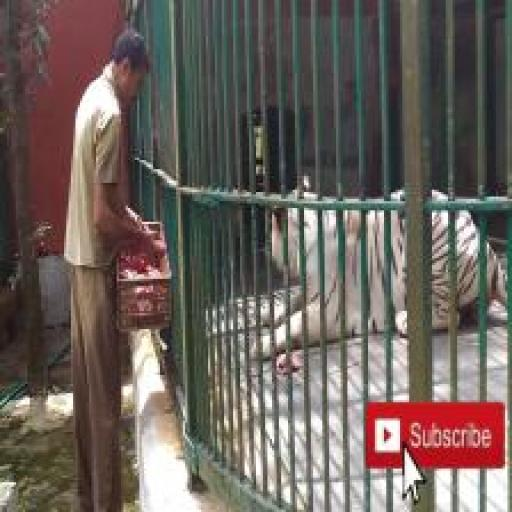Tiger: (252, 176, 506, 369)
